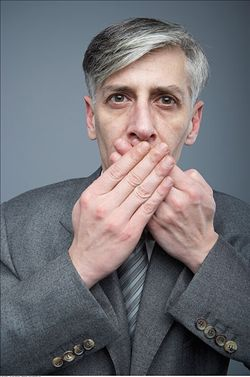face: (98, 48, 188, 184)
